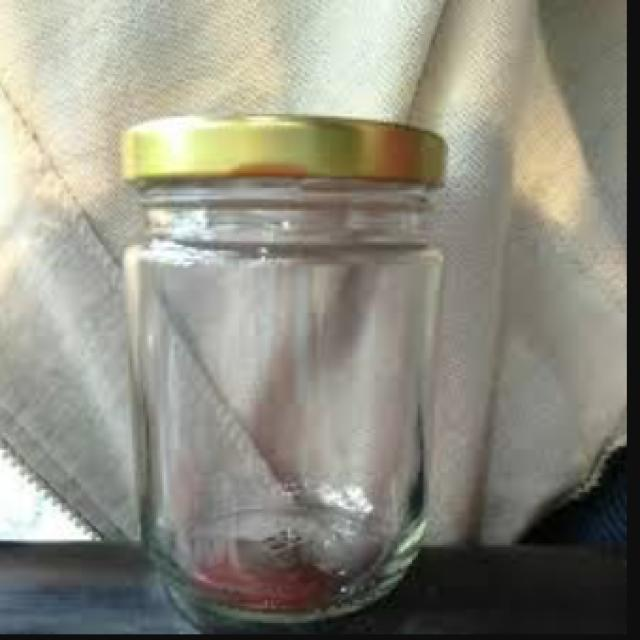ToplesKaca: (117, 108, 450, 631)
